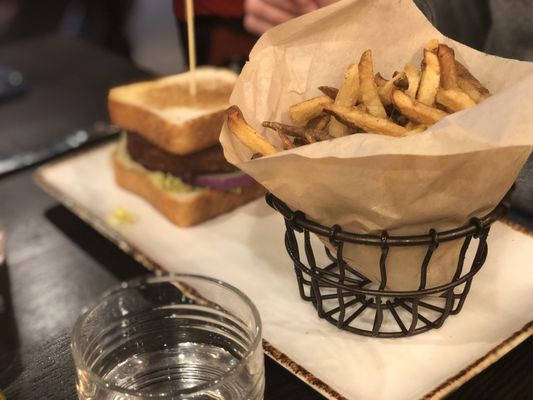pizza: (69, 271, 267, 400)
sandwich: (0, 123, 120, 178)
soup: (107, 66, 270, 228)
